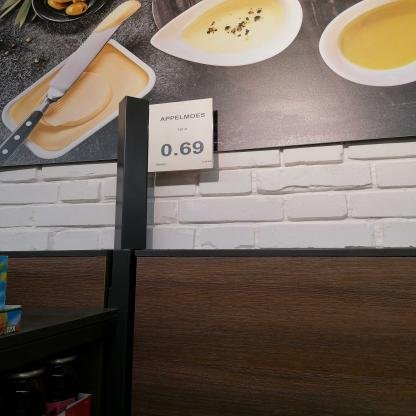prtg: (148, 99, 214, 173)
